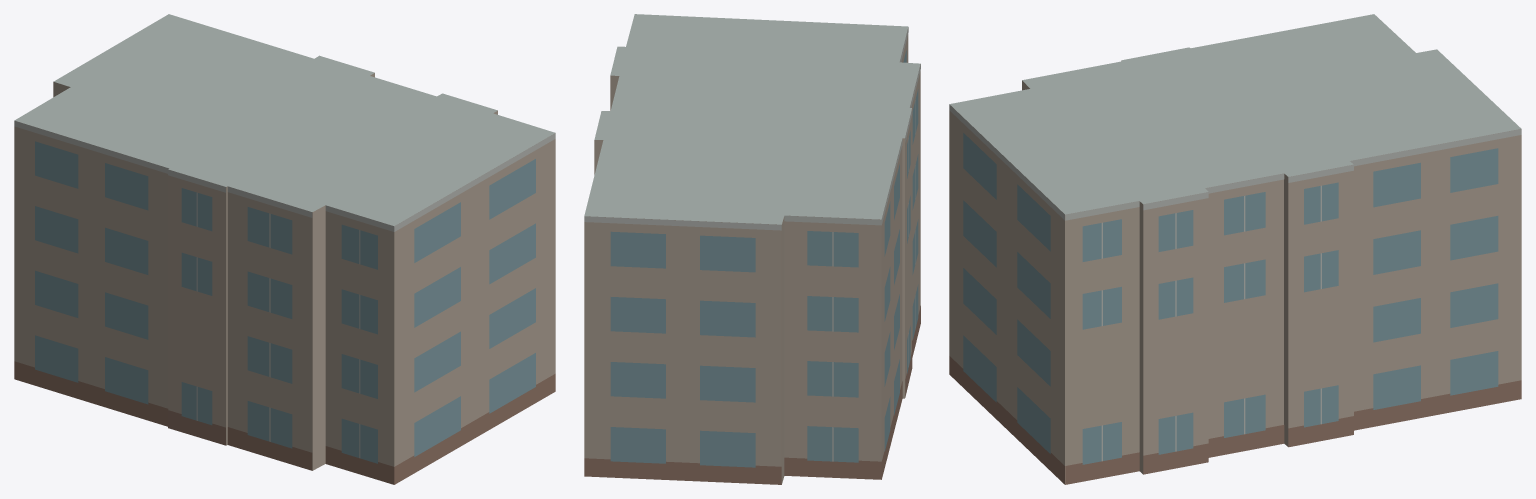
Rendered from survey-upis-32513608.glb.
3 renders of one model, left to right at view 1: azimuth 30°, elevation 25°; view 2: azimuth 150°, elevation 25°; view 3: azimuth 270°, elevation 25°, orthographic. The views are drawn at different scales.
Parts seen in each view (by area): view 1: survey-upis-32513608.tmp; view 2: survey-upis-32513608.tmp; view 3: survey-upis-32513608.tmp.
Boxes of the visible parts, x1=… form: survey-upis-32513608.tmp: x1=14, y1=14, x2=555, y2=484; survey-upis-32513608.tmp: x1=584, y1=14, x2=920, y2=484; survey-upis-32513608.tmp: x1=949, y1=14, x2=1521, y2=484.
Bounding box in the file's own units: 17.2 × 10.8 × 20.73.
